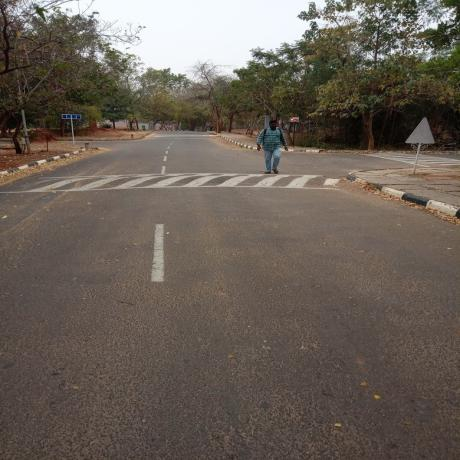Speed Bump: (1, 173, 348, 190)
